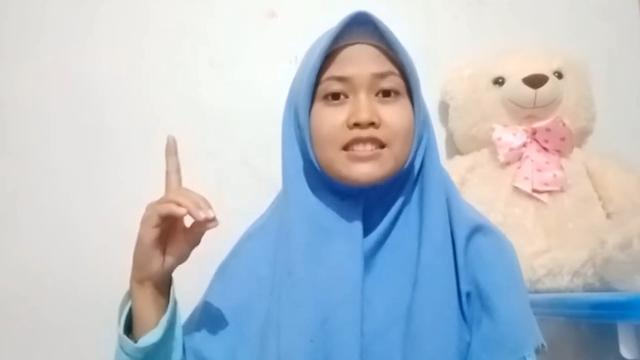D: (130, 134, 222, 279)
